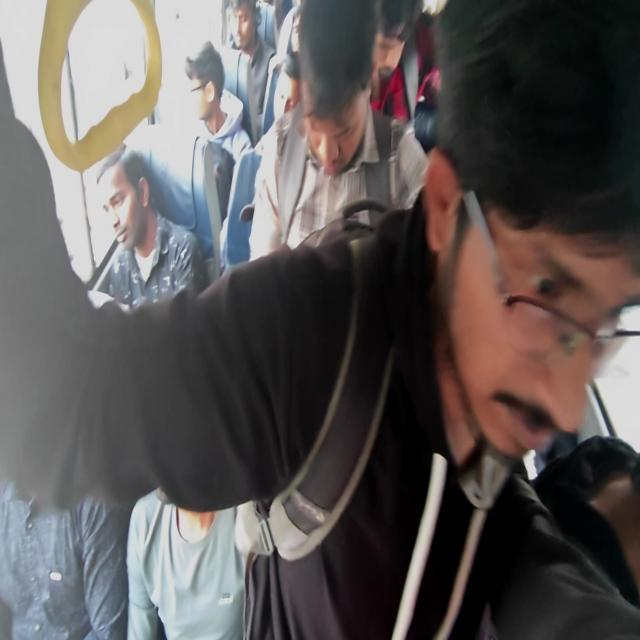person: (445, 39, 640, 497), (134, 381, 233, 579), (0, 368, 91, 570), (303, 11, 378, 161), (86, 171, 167, 252), (179, 48, 230, 133), (365, 0, 411, 75), (226, 4, 265, 51), (271, 68, 299, 132), (290, 15, 308, 61)
